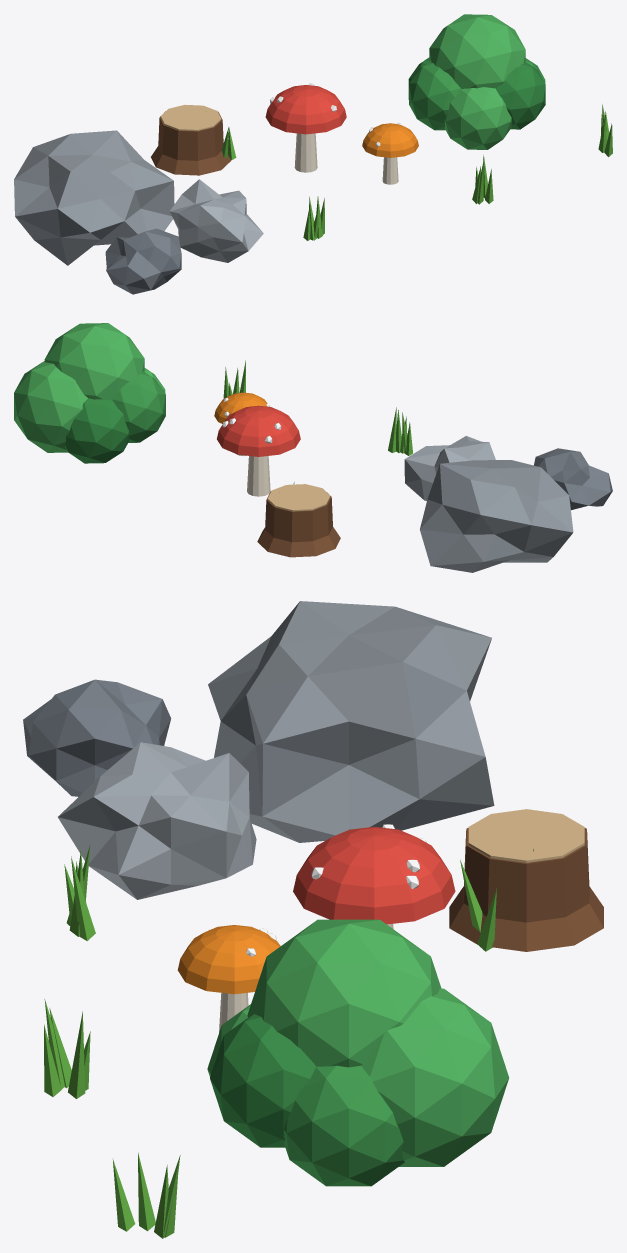
3 renders of one model, top to bottom at view 1: azimuth 30°, elevation 25°; view 2: azimuth 150°, elevation 25°; view 3: azimuth 270°, elevation 25°, orthographic. The views are drawn at different scales.
Parts seen in each view (by area): view 1: part_0, part_23, part_1, part_2, part_21, part_44, part_4, part_20, part_22, part_11, part_45, part_3 (+1 smaller); view 2: part_0, part_23, part_18, part_44, part_4, part_19, part_2, part_1, part_20, part_45, part_3, part_11; view 3: part_0, part_1, part_23, part_18, part_4, part_44, part_17, part_2, part_22, part_11, part_45, part_27.
Boxes of the visible parts, x1,y1,x2,y2 form: part_0: (14,130,174,265); part_23: (429,14,525,88); part_1: (169,179,263,262); part_2: (105,228,181,294); part_21: (444,87,511,149); part_44: (151,111,231,175); part_4: (265,85,346,134); part_20: (409,61,460,130); part_22: (496,62,545,129); part_11: (362,123,418,157); part_45: (160,104,221,130); part_3: (294,133,317,172); part_0: (420,460,573,572); part_23: (44,323,144,400); part_18: (14,361,87,452); part_44: (257,491,340,557); part_4: (217,405,300,456); part_19: (65,398,129,463); part_2: (534,448,612,510); part_1: (404,436,495,500); part_20: (112,371,165,442); part_45: (267,484,330,511); part_3: (247,456,270,496); part_11: (214,392,267,423); part_0: (208,601,494,842); part_1: (58,742,256,899); part_23: (247,919,441,1067); part_18: (361,988,509,1166); part_4: (293,826,455,924); part_44: (449,827,603,951); part_17: (283,1065,404,1186); part_2: (23,679,171,796); part_22: (210,1014,315,1147); part_11: (177,925,280,994); part_45: (468,809,584,862); part_27: (68,1011,85,1098).
Size of the model in its own units: 5 by 1.18 by 2.29.
